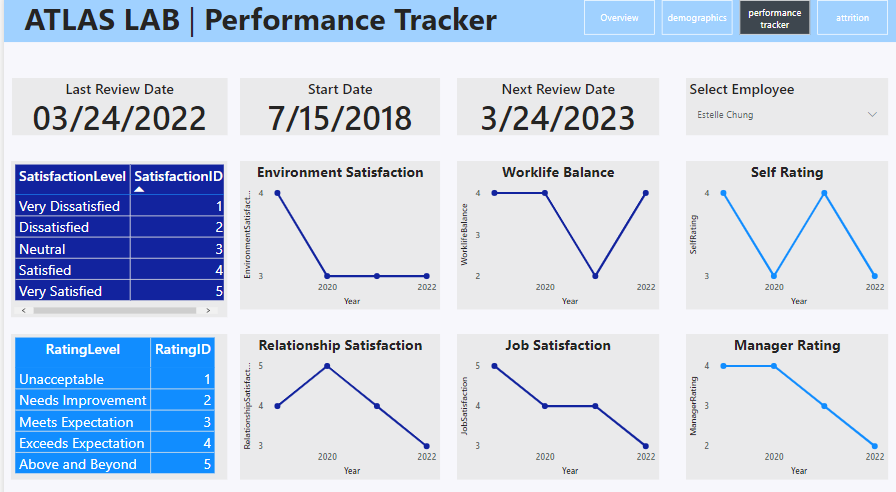

The page's visual inventory and layout, read from the dashboard file:
{"tool":"powerbi","page":{"name":"performance tracker","canvas":[1280,720],"ordinal":2},"visuals":[{"type":"slicer","title":"Select Employee","fields":{"Values":["DimEmployee.FullName"]},"box":[965.2,119.1,286.3,80.8],"z":0},{"type":"card","title":"Start Date","fields":{"Values":["Min(DimEmployee.HireDate)"]},"box":[334.5,119.1,283.5,80.8],"z":1000},{"type":"card","title":"Next Review Date","fields":{"Values":["_Measures.NextReviewDate"]},"box":[640.6,119.1,286.3,80.8],"z":2000},{"type":"card","title":"Last Review Date","fields":{"Values":["_Measures.LastReviewDateFormatted"]},"box":[11.3,119.1,304.7,80.8],"z":3000},{"type":"lineChart","title":"Environment Satisfaction ","fields":{"Category":["DimDate.Year"],"Y":["_Measures.EnvironmentSatisfaction"]},"box":[334.5,236.7,283.5,209.8],"z":4000},{"type":"lineChart","title":"Job Satisfaction","fields":{"Category":["DimDate.Year"],"Y":["_Measures.JobSatisfaction"]},"box":[640.6,480.5,286.3,205.5],"z":5000},{"type":"lineChart","title":"Relationship Satisfaction","fields":{"Category":["DimDate.Year"],"Y":["_Measures.RelationshipSatisfaction"]},"box":[334.5,480.5,283.5,205.5],"z":6000},{"type":"lineChart","title":"Worklife Balance ","fields":{"Category":["DimDate.Year"],"Y":["_Measures.WorklifeBalance"]},"box":[640.6,236.7,286.3,209.8],"z":7000},{"type":"lineChart","title":"Self Rating","fields":{"Category":["DimDate.Year"],"Y":["_Measures.SelfRating"]},"box":[965.2,236.7,286.3,209.8],"z":8000},{"type":"lineChart","title":"Manager Rating","fields":{"Category":["DimDate.Year"],"Y":["_Measures.ManagerRating"]},"box":[965.2,480.5,286.3,205.5],"z":9000},{"type":"tableEx","fields":{"Values":["DimSatisfiedLevel.SatisfactionLevel","DimSatisfiedLevel.SatisfactionID"]},"box":[9.9,236.7,306.1,221.1],"z":10000},{"type":"tableEx","fields":{"Values":["DimRatingLevel.RatingLevel","DimRatingLevel.RatingID"]},"box":[9.9,480.5,306.1,205.5],"z":11000},{"type":"textbox","box":[0,0,1279.8,68],"z":12000},{"type":"pageNavigator","box":[820.6,8.5,430.9,49.6],"z":13000}]}

Visuals, with their boxes in screenshot pixels (x1, y1, x2, y2), scaled from the page's 1280x720 canvas onto the 896x492 screenshot:
"Select Employee" slicer: 676,81,876,137
"Start Date" card: 234,81,433,137
"Next Review Date" card: 448,81,649,137
"Last Review Date" card: 8,81,221,137
"Environment Satisfaction " lineChart: 234,162,433,305
"Job Satisfaction" lineChart: 448,328,649,469
"Relationship Satisfaction" lineChart: 234,328,433,469
"Worklife Balance " lineChart: 448,162,649,305
"Self Rating" lineChart: 676,162,876,305
"Manager Rating" lineChart: 676,328,876,469
tableEx - DimSatisfiedLevel.SatisfactionLevel x DimSatisfiedLevel.SatisfactionID: 7,162,221,313
tableEx - DimRatingLevel.RatingLevel x DimRatingLevel.RatingID: 7,328,221,469
textbox: 0,0,895,46
pageNavigator: 574,6,876,40
